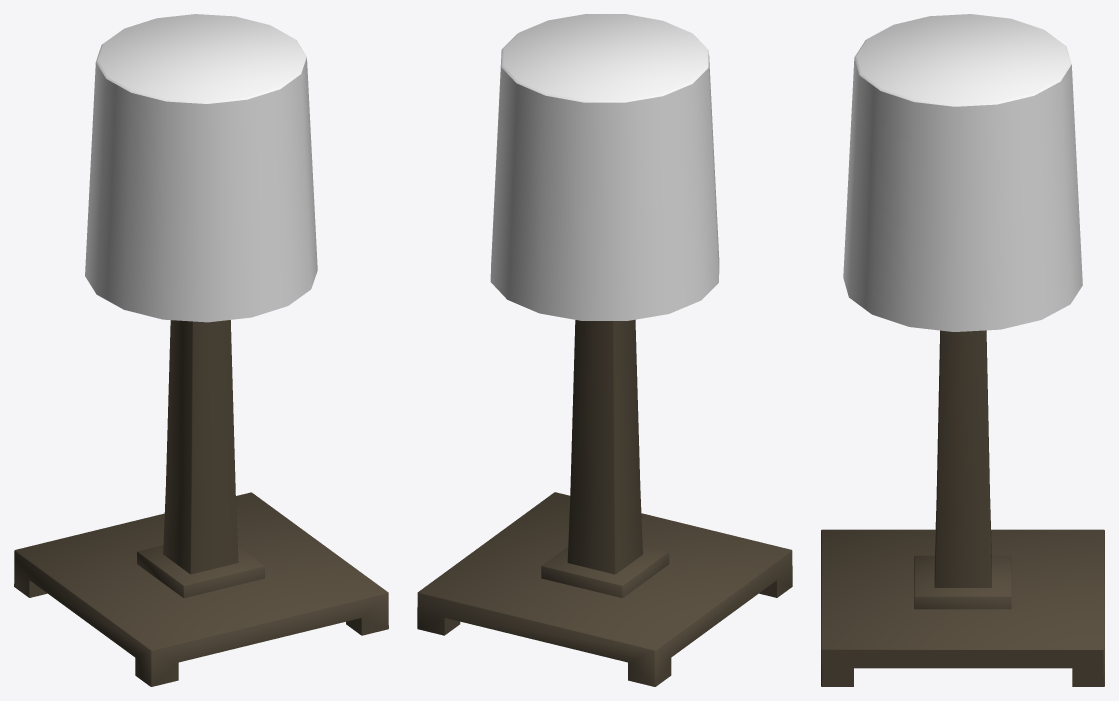
The model's file is MZBLP02.FBX.
The picture shows the model from 3 angles, left to right: view 1: azimuth 30°, elevation 25°; view 2: azimuth 150°, elevation 25°; view 3: azimuth 270°, elevation 25°; orthographic projection. The views are drawn at different scales.
Visible parts, largest first — view 1: MZBLP02; view 2: MZBLP02; view 3: MZBLP02.
Part boxes in pixels (<box>): MZBLP02: <box>14,14,388,686</box>; MZBLP02: <box>417,14,792,686</box>; MZBLP02: <box>821,14,1104,686</box>.
Size of the model in its own units: 33.98 by 33.98 by 75.
